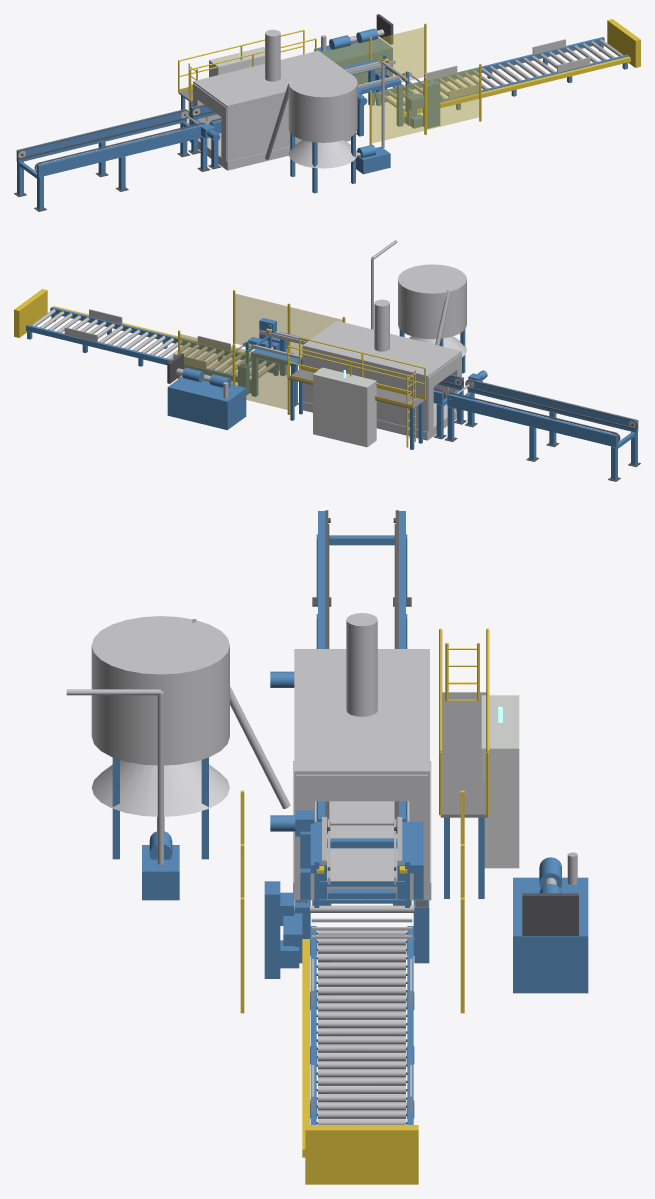
File: SM_AnodeScrapWasher.fbx
3 views of the same model, one above another, from view 1: azimuth 30°, elevation 25°; view 2: azimuth 150°, elevation 25°; view 3: azimuth 270°, elevation 25° (orthographic). The views are drawn at different scales.
Parts seen in each view (by area): view 1: SW_WashHood, SW_Guards, SW_SlimesTank, SW_Receive_Frame, SW_Dressing, SW_StackConv_Frame, SW_StackerFrame, SW_StationFrame, SW_Wash_Frame, SW_Receive_L_Chain, SW_TilterFrame, SW_Receive_R_Chain; view 2: SW_Dressing, SW_WashHood, SW_Guards, SW_Receive_Frame, SW_SlimesTank, SW_StackConv_Frame, SW_StackerFrame, SW_StationFrame, SW_Wash_Frame, SW_Receive_R_Chain, SW_TilterFrame, SW_Receive_L_Chain; view 3: SW_SlimesTank, SW_WashHood, SW_Dressing, SW_StackerFrame, SW_StackConv_Frame, SW_Receive_Frame, SW_StationFrame, SW_Wash_Frame, SW_Tilter, SW_Guards, SW_StackForks, SW_TilterFrame (+1 smaller).
Boxes of the visible parts, x1,y1,x2,y2 form: SW_WashHood: [193, 29, 350, 170]; SW_Guards: [314, 23, 481, 145]; SW_SlimesTank: [265, 61, 407, 193]; SW_Receive_Frame: [14, 109, 220, 211]; SW_Dressing: [178, 14, 393, 142]; SW_StackConv_Frame: [375, 37, 630, 128]; SW_StackerFrame: [423, 19, 640, 128]; SW_StationFrame: [342, 60, 403, 136]; SW_Wash_Frame: [188, 89, 367, 169]; SW_Receive_L_Chain: [17, 109, 189, 159]; SW_TilterFrame: [375, 72, 424, 125]; SW_Receive_R_Chain: [34, 122, 205, 171]; SW_Dressing: [167, 337, 425, 449]; SW_WashHood: [302, 299, 461, 440]; SW_Guards: [178, 290, 345, 414]; SW_Receive_Frame: [444, 370, 640, 481]; SW_SlimesTank: [371, 240, 466, 373]; SW_StackConv_Frame: [26, 306, 279, 393]; SW_StackerFrame: [14, 289, 276, 368]; SW_StationFrame: [251, 331, 310, 406]; SW_Wash_Frame: [298, 358, 466, 439]; SW_Receive_R_Chain: [465, 379, 637, 429]; SW_TilterFrame: [238, 337, 287, 395]; SW_Receive_L_Chain: [449, 392, 620, 441]; SW_SlimesTank: [66, 616, 290, 900]; SW_WashHood: [293, 613, 431, 900]; SW_Dressing: [439, 628, 588, 993]; SW_StackerFrame: [264, 881, 418, 1184]; SW_StackConv_Frame: [280, 926, 414, 1157]; SW_Receive_Frame: [270, 511, 411, 687]; SW_StationFrame: [300, 817, 423, 937]; SW_Wash_Frame: [270, 801, 411, 905]; SW_Tilter: [310, 860, 414, 912]; SW_Guards: [240, 790, 464, 1013]; SW_StackForks: [283, 911, 412, 945]; SW_TilterFrame: [280, 892, 429, 963].
Bounding box in the file's own units: 2206 × 386 × 830.
